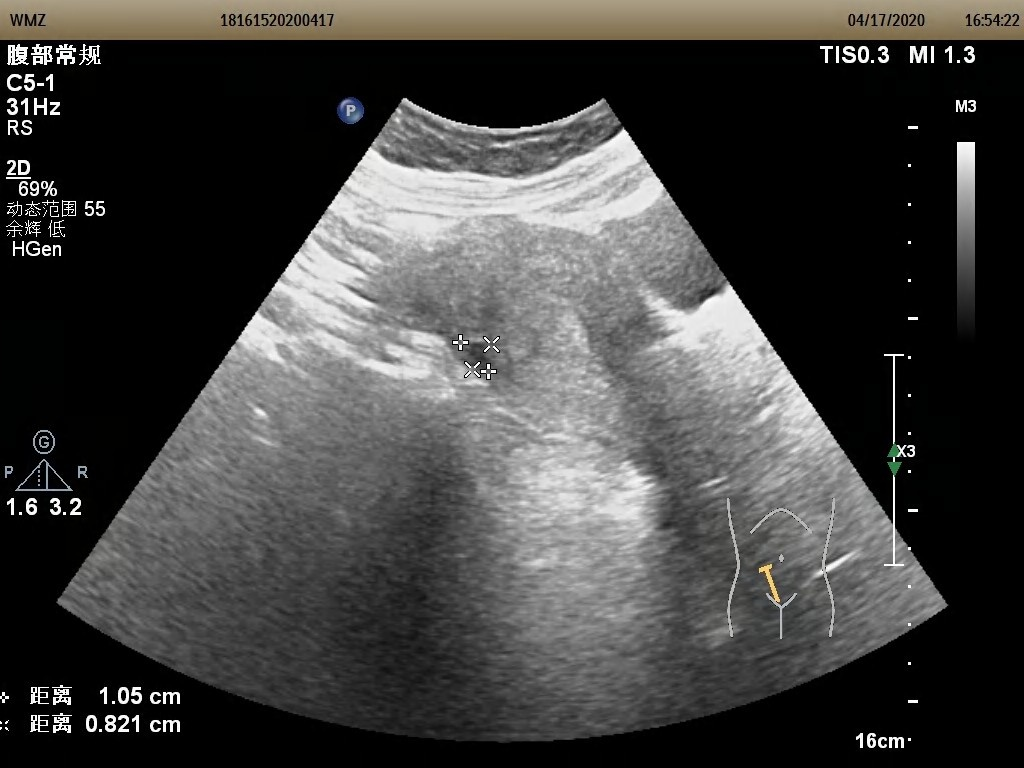肌瘤: (458, 340, 496, 371)
